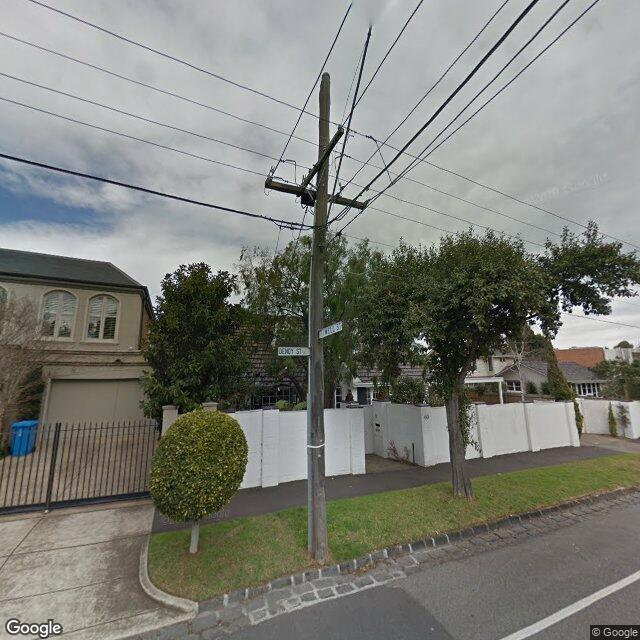crossarm: (264, 164, 369, 212), (300, 127, 344, 190)
timber-pole: (307, 71, 332, 564)
